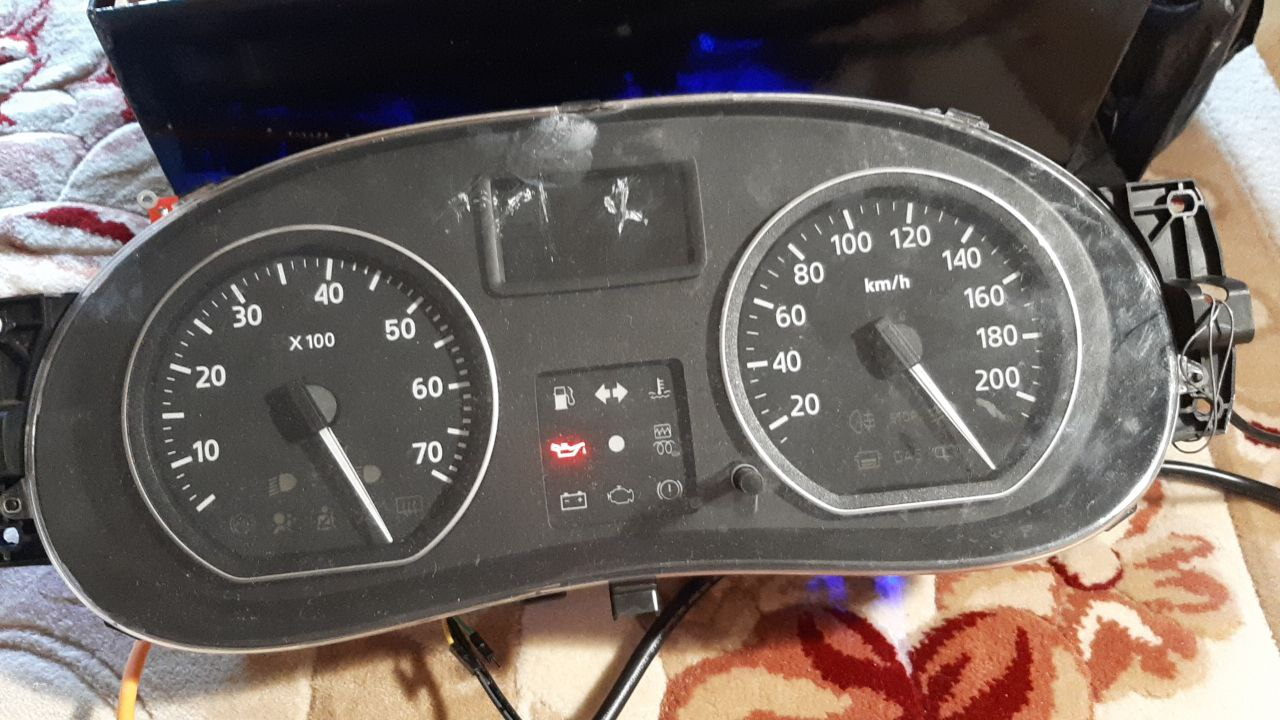oil: (546, 437, 595, 465)
